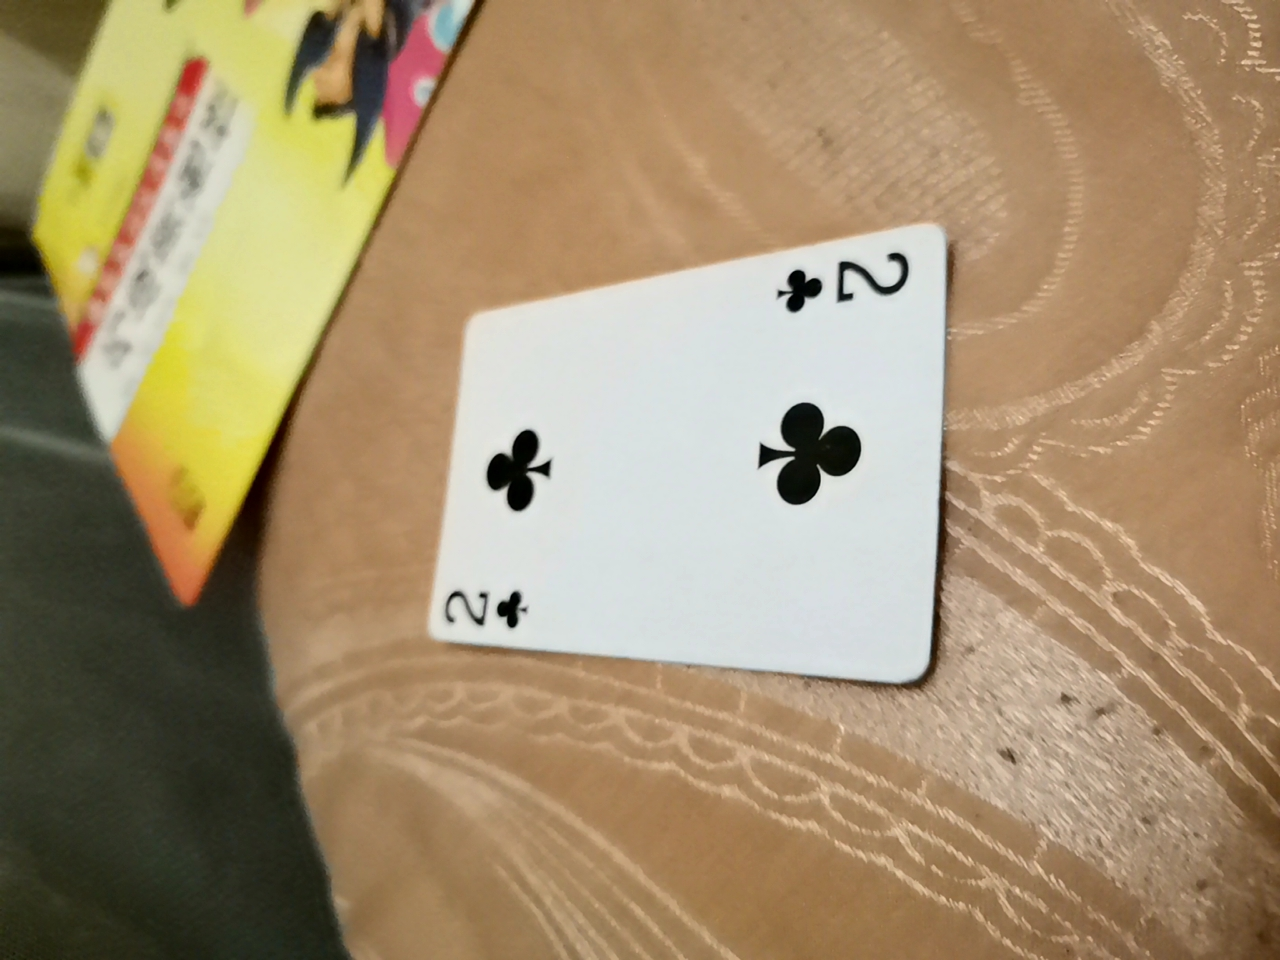mh 2: (364, 223, 916, 721)
